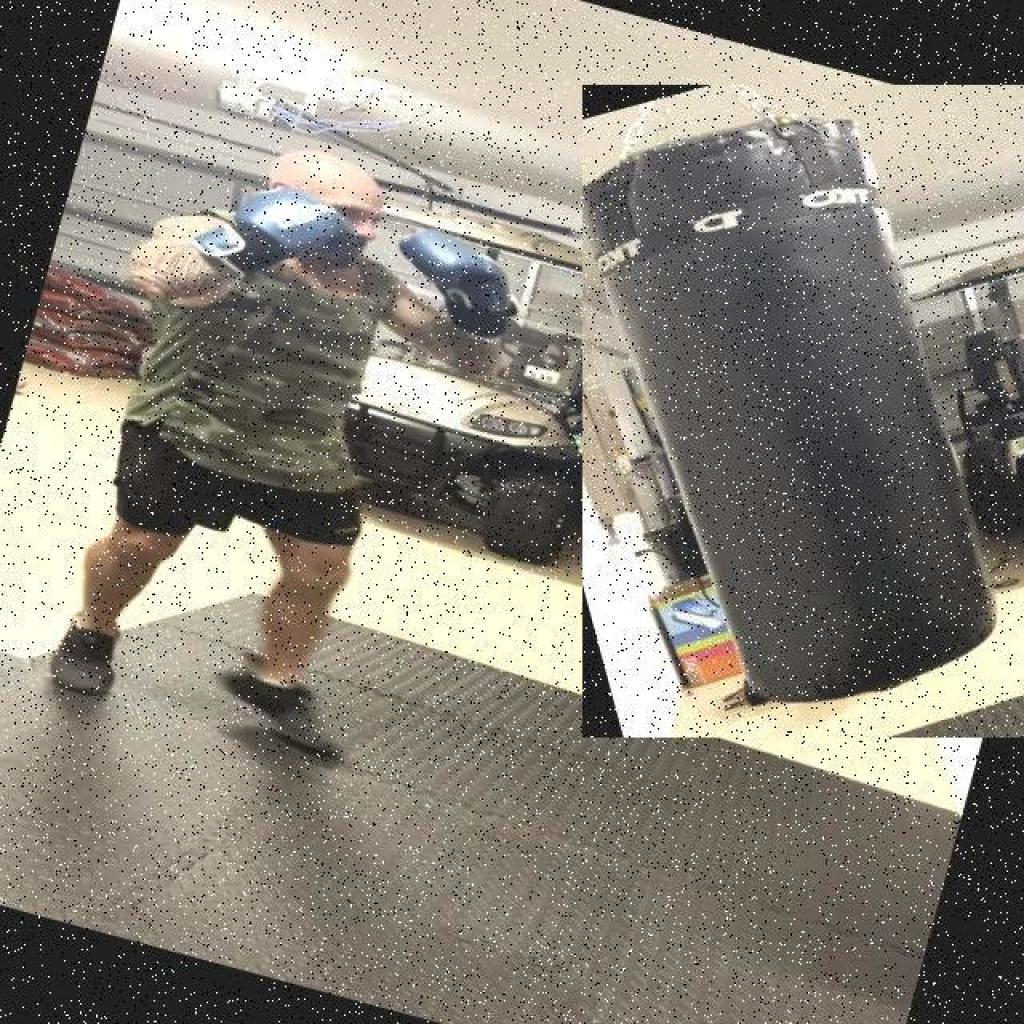bag: (582, 84, 1024, 738)
no punch: (128, 110, 557, 404)
